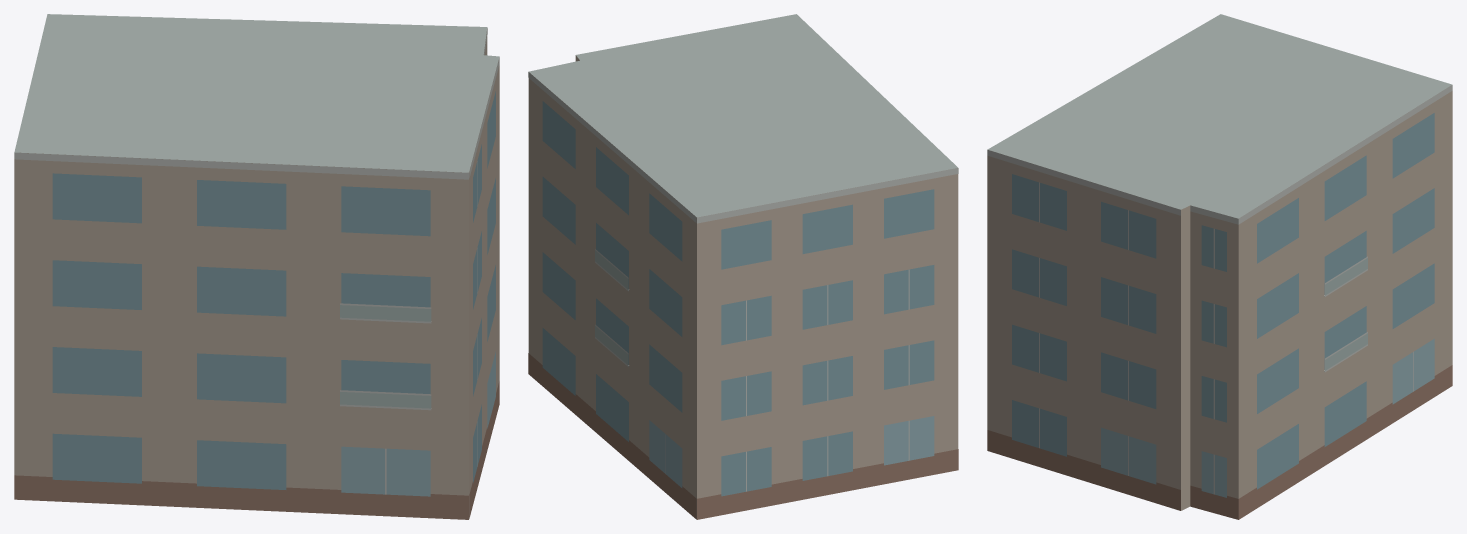
File: survey-upis-32564172.glb
3 renders of one model, left to right at view 1: azimuth 30°, elevation 25°; view 2: azimuth 150°, elevation 25°; view 3: azimuth 270°, elevation 25°, orthographic. The views are drawn at different scales.
Parts seen in each view (by area): view 1: survey-upis-32564172.tmp; view 2: survey-upis-32564172.tmp; view 3: survey-upis-32564172.tmp.
Boxes of the visible parts, box(x1,y1,x2,y2) form: survey-upis-32564172.tmp: box(14, 14, 499, 519); survey-upis-32564172.tmp: box(528, 14, 958, 519); survey-upis-32564172.tmp: box(987, 14, 1452, 519).
Size of the model in its own units: 17.79 by 12.2 by 17.09.
